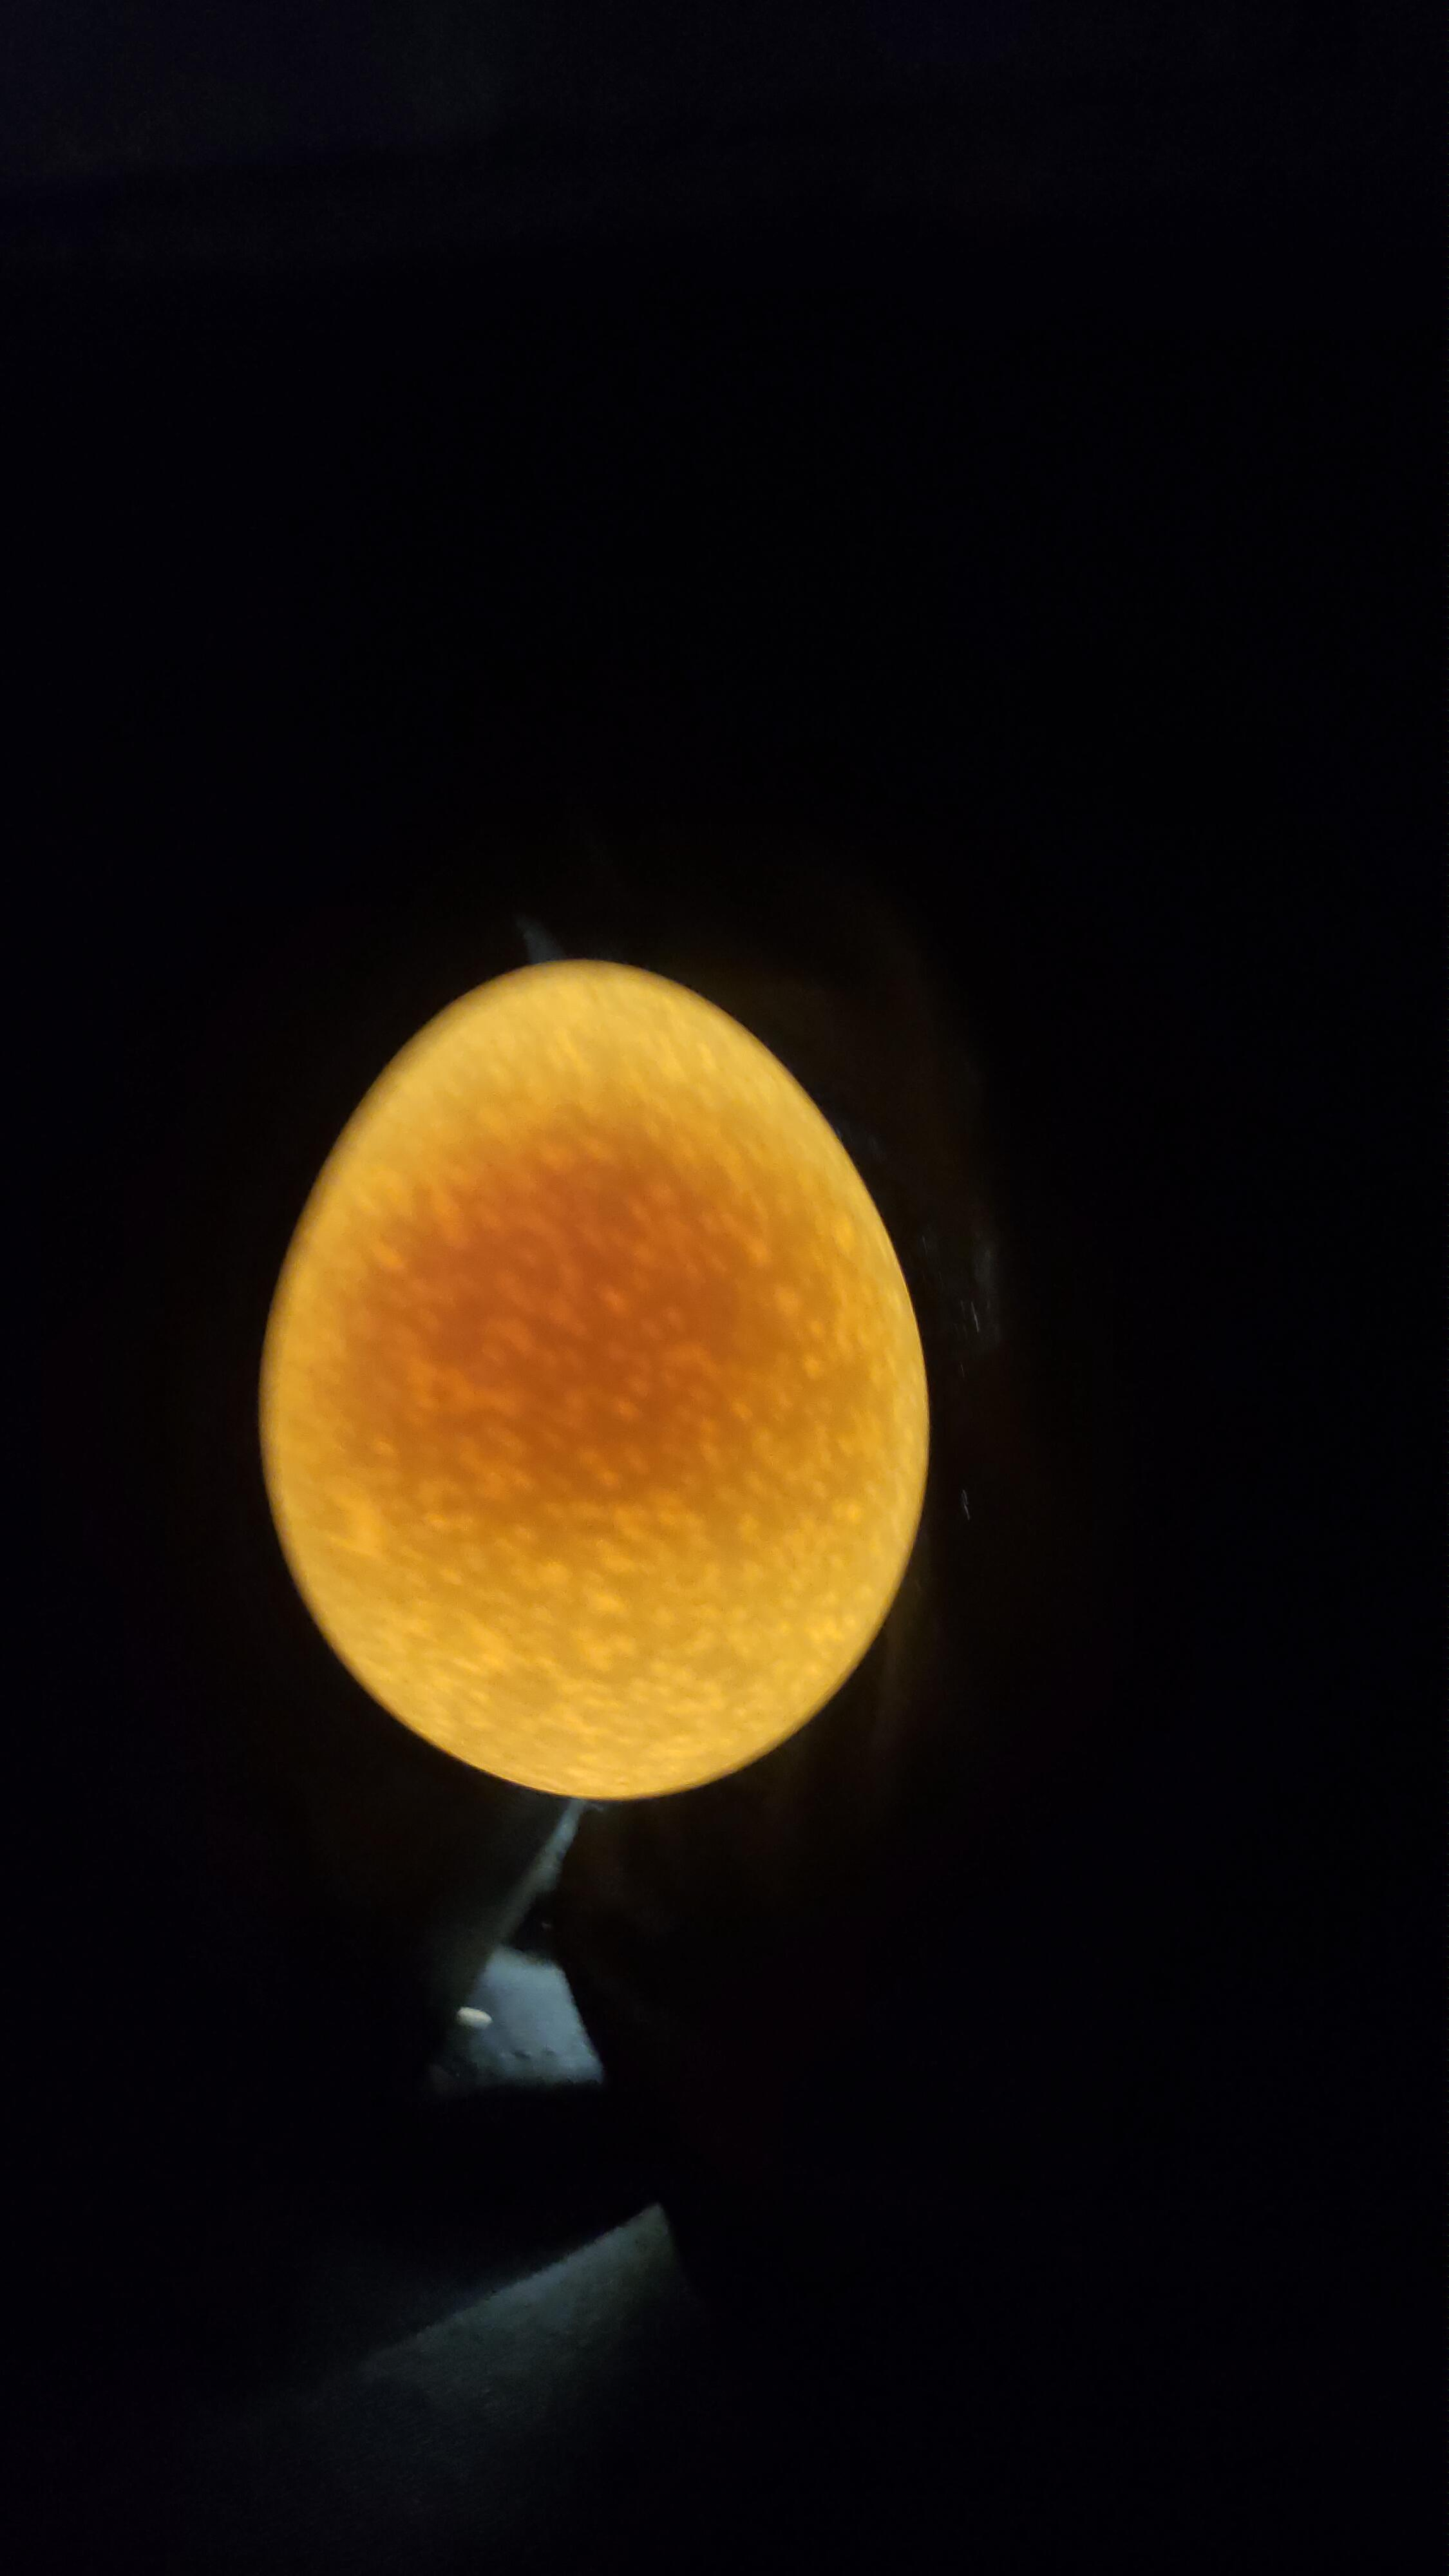A - Good: (200, 908, 998, 1842)
